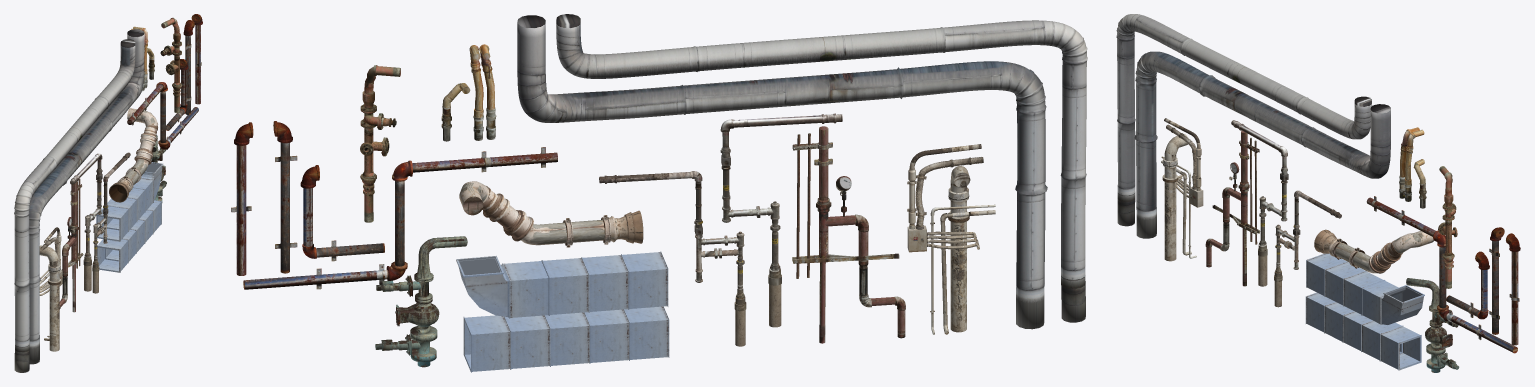
File: pipes.obj
3 views of the same model, side by side, from view 1: azimuth 30°, elevation 25°; view 2: azimuth 150°, elevation 25°; view 3: azimuth 270°, elevation 25° (orthographic). The views are drawn at different scales.
Visible parts, largest first — view 1: LONG_S._METAL_NurbsPath.010, LONG_S._METAL_2_NurbsPath.011, SQUARE_TOP_Cube.005, SQUARE_BASE_Cube, WHITE_WITH_BOX_Cube.003, WHITE_THICK_ONE_Cylinder.011, RUSTY_WITH_GAUGES_Cylinder.012, RUSTY_BIG_ONE_Cylinder.001, MEDIUM_S._METAL_Cylinder, OLD_RED-ISH_Cylinder.007, MEDIUM_S._METAL_2_Cylinder.005, RUSTY_LEFTY_NurbsPath.009 (+5 smaller); view 2: LONG_S._METAL_2_NurbsPath.011, LONG_S._METAL_NurbsPath.010, SQUARE_TOP_Cube.005, SQUARE_BASE_Cube, WHITE_WITH_BOX_Cube.003, RUSTY_WITH_GAUGES_Cylinder.012, WHITE_THICK_ONE_Cylinder.011, RUSTY_BIG_ONE_Cylinder.001, OLD_BLUE-ISH_Sphere, MEDIUM_S._METAL_Cylinder, MEDIUM_S._METAL_2_Cylinder.005, OLD_RED-ISH_Cylinder.007 (+5 smaller); view 3: LONG_S._METAL_2_NurbsPath.011, LONG_S._METAL_NurbsPath.010, SQUARE_TOP_Cube.005, SQUARE_BASE_Cube, WHITE_WITH_BOX_Cube.003, RUSTY_WITH_GAUGES_Cylinder.012, WHITE_THICK_ONE_Cylinder.011, RUSTY_BIG_ONE_Cylinder.001, OLD_BLUE-ISH_Sphere, MEDIUM_S._METAL_Cylinder, MEDIUM_S._METAL_2_Cylinder.005, OLD_RED-ISH_Cylinder.007 (+6 smaller).
Boxes of the visible parts, x1=… form: LONG_S._METAL_NurbsPath.010: x1=14, y1=39, x2=135, y2=372; LONG_S._METAL_2_NurbsPath.011: x1=29, y1=29, x2=144, y2=364; SQUARE_TOP_Cube.005: x1=96, y1=162, x2=163, y2=241; SQUARE_BASE_Cube: x1=97, y1=200, x2=161, y2=272; WHITE_WITH_BOX_Cube.003: x1=39, y1=227, x2=62, y2=351; WHITE_THICK_ONE_Cylinder.011: x1=109, y1=108, x2=157, y2=202; RUSTY_WITH_GAUGES_Cylinder.012: x1=59, y1=178, x2=83, y2=312; RUSTY_BIG_ONE_Cylinder.001: x1=127, y1=82, x2=198, y2=149; MEDIUM_S._METAL_Cylinder: x1=70, y1=153, x2=102, y2=291; OLD_RED-ISH_Cylinder.007: x1=160, y1=17, x2=182, y2=112; MEDIUM_S._METAL_2_Cylinder.005: x1=92, y1=152, x2=130, y2=293; RUSTY_LEFTY_NurbsPath.009: x1=191, y1=14, x2=202, y2=104; LONG_S._METAL_2_NurbsPath.011: x1=517, y1=15, x2=1047, y2=329; LONG_S._METAL_NurbsPath.010: x1=556, y1=14, x2=1087, y2=322; SQUARE_TOP_Cube.005: x1=456, y1=251, x2=668, y2=318; SQUARE_BASE_Cube: x1=463, y1=306, x2=669, y2=372; WHITE_WITH_BOX_Cube.003: x1=907, y1=144, x2=995, y2=334; RUSTY_WITH_GAUGES_Cylinder.012: x1=792, y1=126, x2=905, y2=343; WHITE_THICK_ONE_Cylinder.011: x1=459, y1=181, x2=643, y2=247; RUSTY_BIG_ONE_Cylinder.001: x1=243, y1=147, x2=557, y2=289; OLD_BLUE-ISH_Sphere: x1=375, y1=236, x2=467, y2=367; MEDIUM_S._METAL_Cylinder: x1=720, y1=113, x2=842, y2=327; MEDIUM_S._METAL_2_Cylinder.005: x1=599, y1=171, x2=746, y2=346; OLD_RED-ISH_Cylinder.007: x1=360, y1=65, x2=400, y2=222; LONG_S._METAL_2_NurbsPath.011: x1=1134, y1=51, x2=1390, y2=238; LONG_S._METAL_NurbsPath.010: x1=1116, y1=14, x2=1372, y2=226; SQUARE_TOP_Cube.005: x1=1306, y1=253, x2=1424, y2=324; SQUARE_BASE_Cube: x1=1305, y1=292, x2=1421, y2=370; WHITE_WITH_BOX_Cube.003: x1=1161, y1=118, x2=1203, y2=261; RUSTY_WITH_GAUGES_Cylinder.012: x1=1205, y1=130, x2=1260, y2=286; WHITE_THICK_ONE_Cylinder.011: x1=1314, y1=229, x2=1434, y2=273; RUSTY_BIG_ONE_Cylinder.001: x1=1366, y1=196, x2=1517, y2=353; OLD_BLUE-ISH_Sphere: x1=1406, y1=278, x2=1459, y2=372; MEDIUM_S._METAL_Cylinder: x1=1231, y1=120, x2=1288, y2=286; MEDIUM_S._METAL_2_Cylinder.005: x1=1274, y1=190, x2=1341, y2=307; OLD_RED-ISH_Cylinder.007: x1=1438, y1=166, x2=1457, y2=288.
Bounding box in the file's own units: 56.37 × 32.14 × 47.32.
